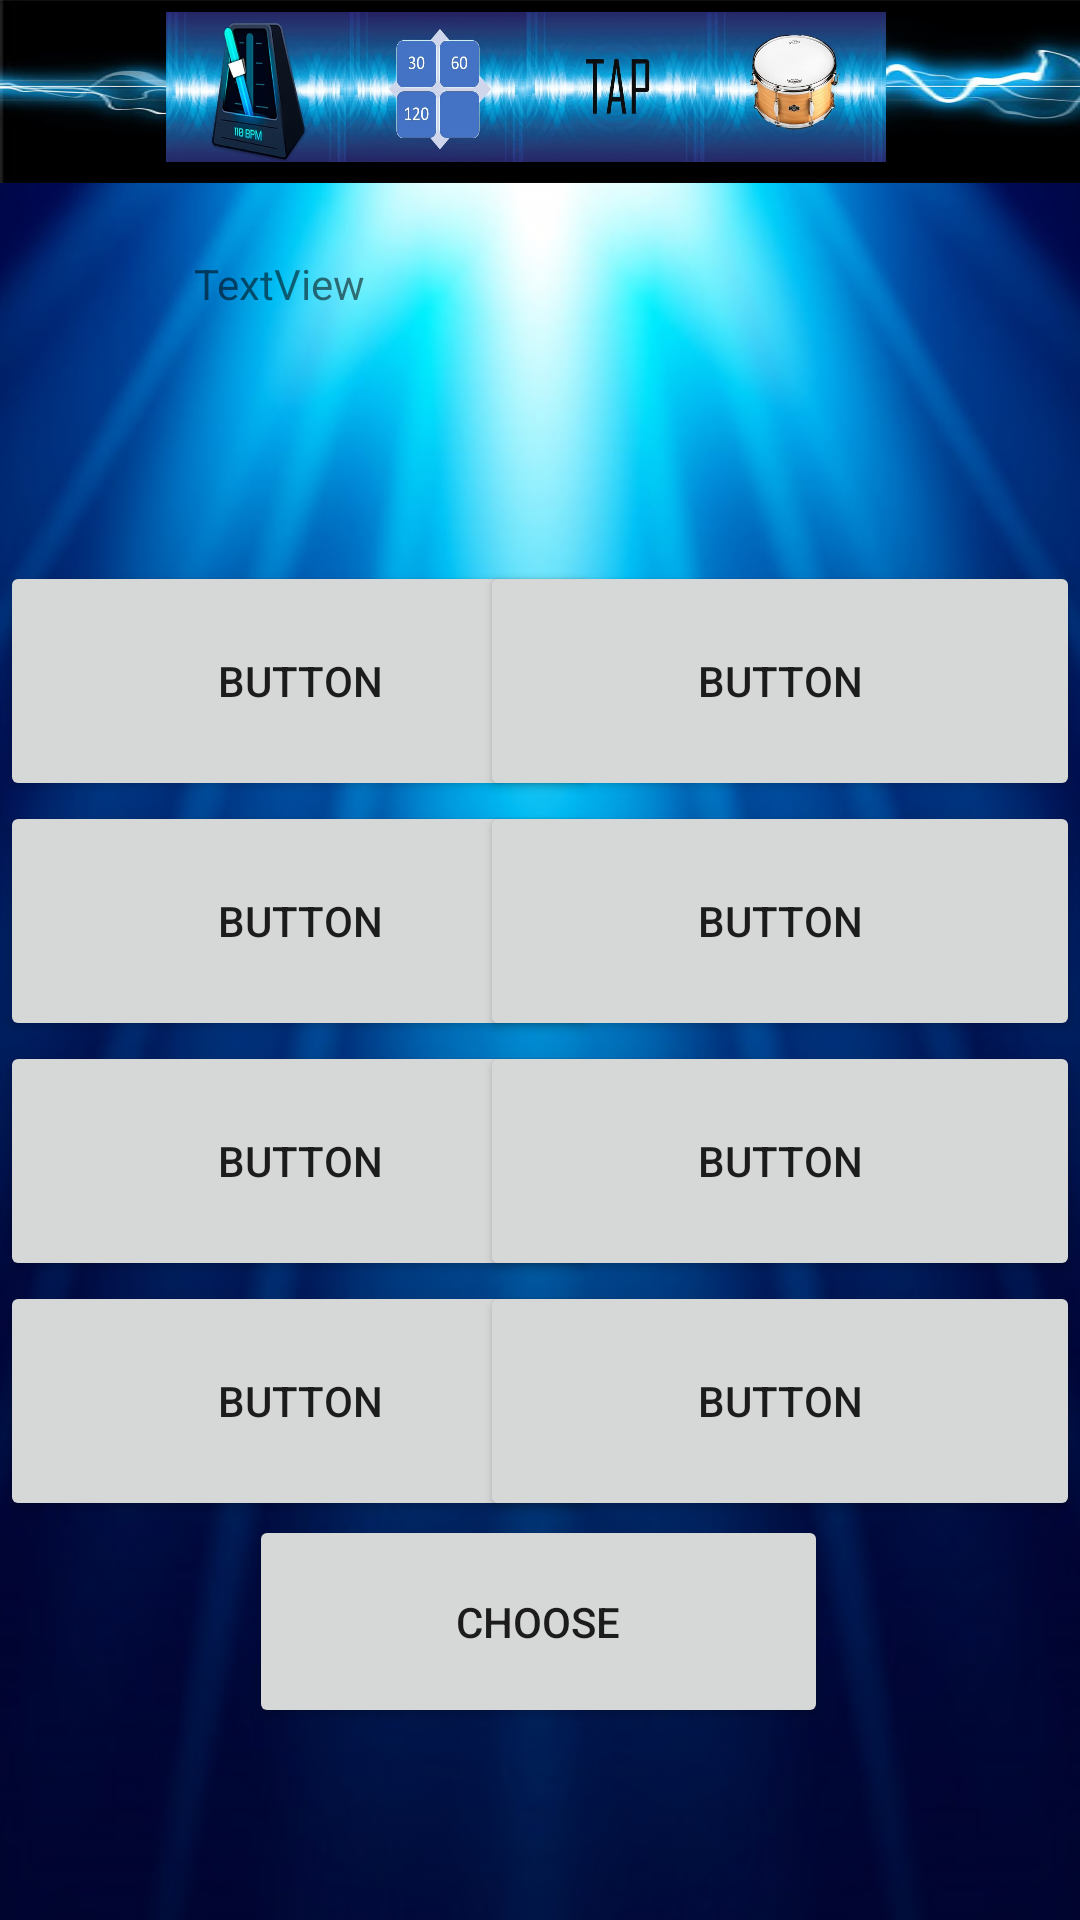

Point at icon controls on the screen. Image size 1080*1920, points as point (x, y).
bam: point (796, 87)
matrix: point (436, 87)
metro: point (256, 87)
